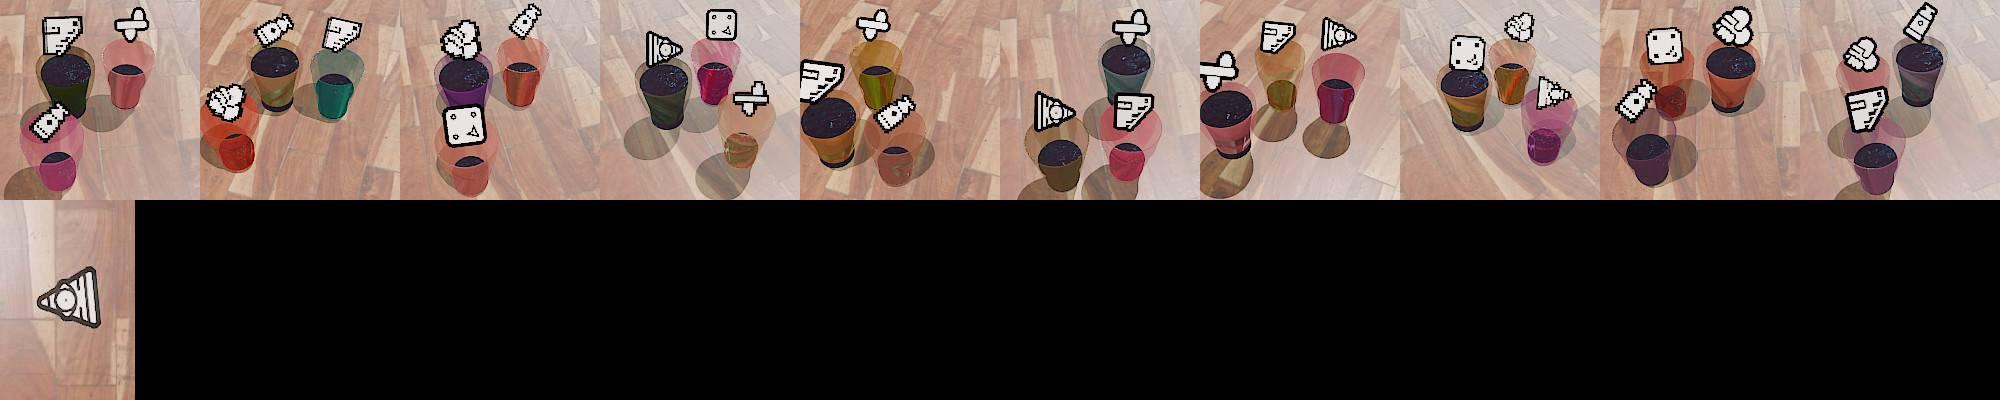icon: (36, 266, 103, 330), (798, 57, 846, 103), (441, 102, 487, 146), (1844, 88, 1888, 134), (1616, 78, 1658, 122), (440, 18, 482, 61), (41, 15, 83, 59), (1710, 6, 1755, 46), (1034, 90, 1075, 132), (874, 94, 917, 134), (1112, 92, 1154, 131), (1199, 51, 1239, 92), (205, 82, 246, 121), (1645, 27, 1685, 66), (321, 15, 362, 54), (732, 78, 772, 116), (31, 102, 69, 141), (254, 13, 296, 48), (1902, 3, 1937, 45), (645, 31, 684, 69), (1111, 9, 1151, 46), (112, 6, 151, 43), (1449, 34, 1486, 71), (1536, 74, 1571, 110), (1260, 19, 1296, 55), (1843, 36, 1879, 71), (1320, 17, 1356, 51), (855, 8, 892, 41), (508, 4, 541, 39), (705, 9, 737, 41), (1504, 11, 1536, 42)
